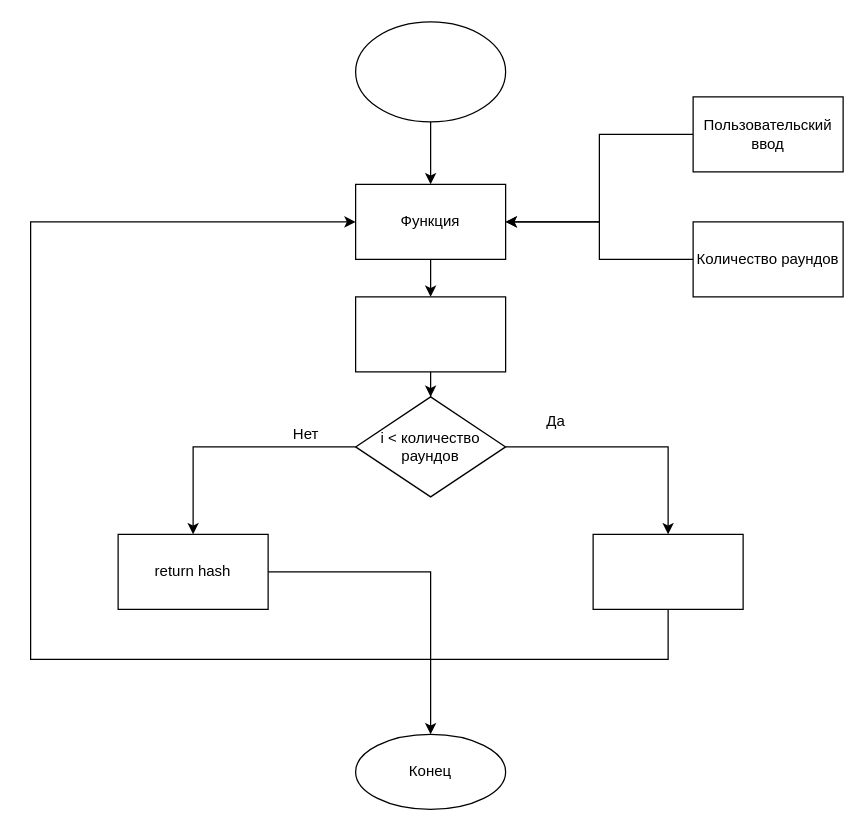
Some shapes in this 865 by 831 pixel diagram are drawn without their labels. Each missing label, with the box of its shape:
hash: (592, 533, 743, 609)
i (раунд): (354, 296, 506, 372)
Начало: (354, 21, 506, 122)
